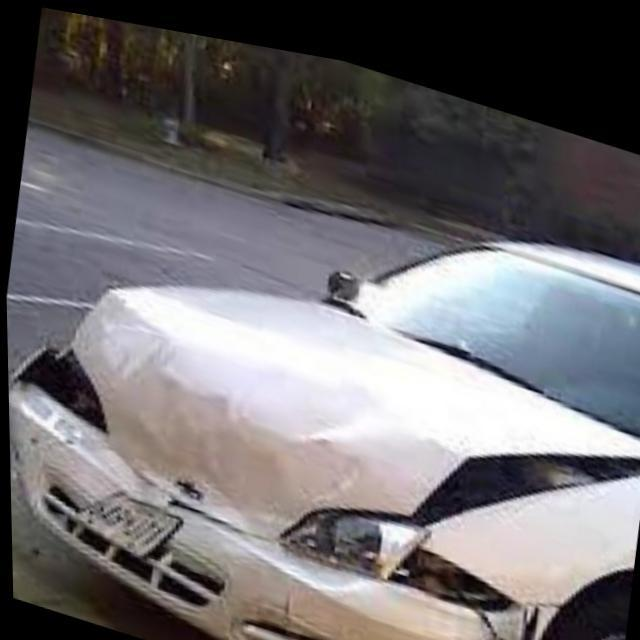dent: (8, 285, 640, 640)
